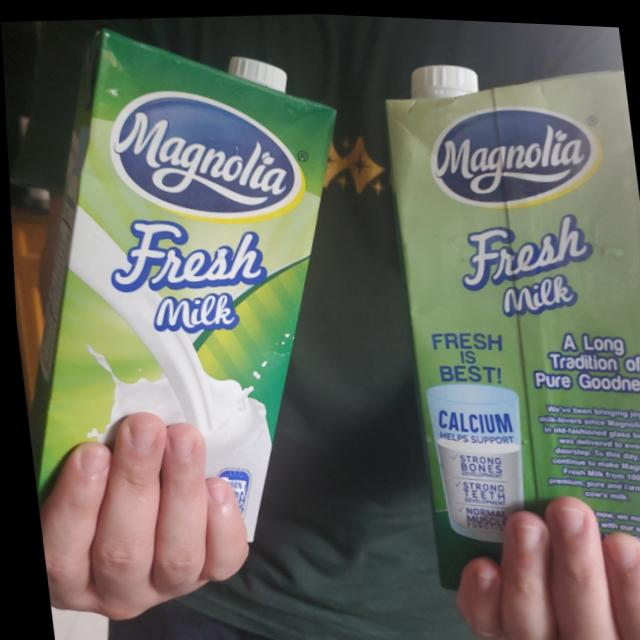milk: (0, 0, 379, 569), (376, 42, 640, 640)
